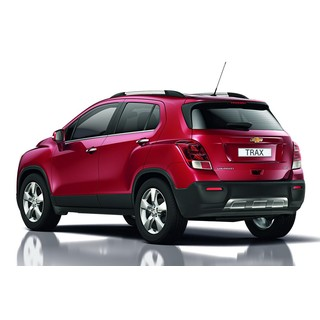car: (16, 90, 306, 244)
